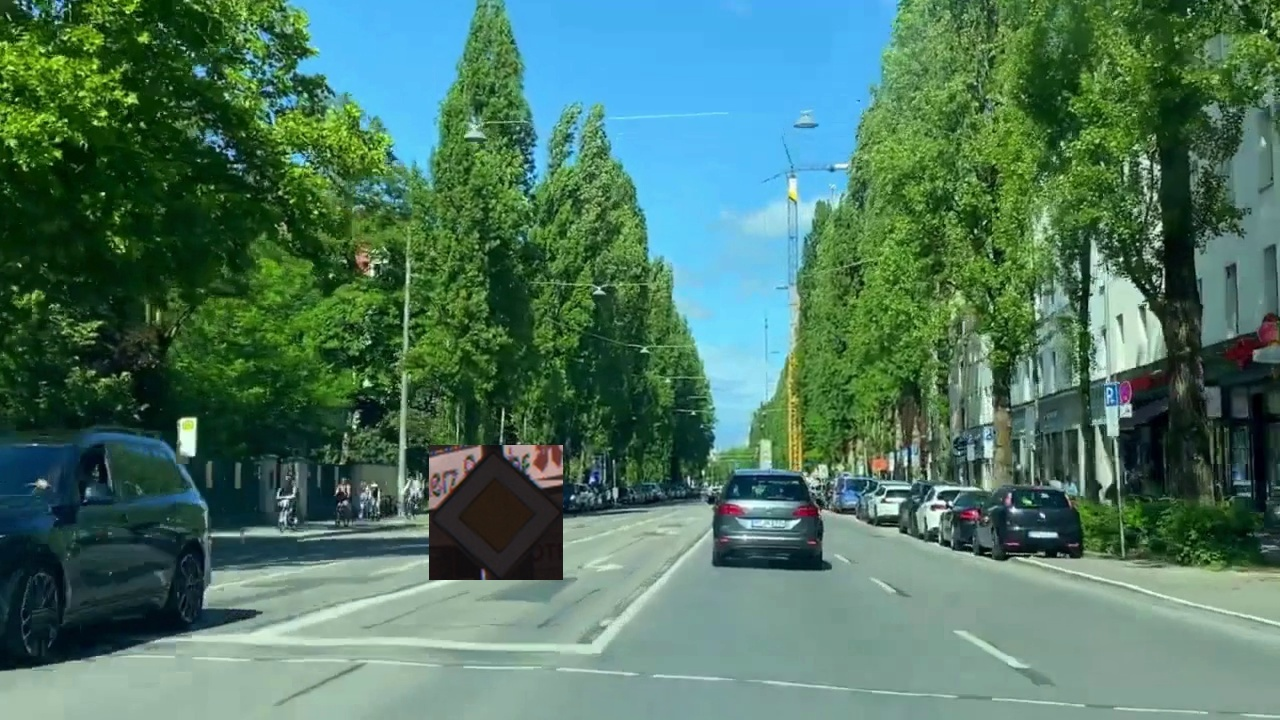Priority road: (429, 445, 563, 580)
